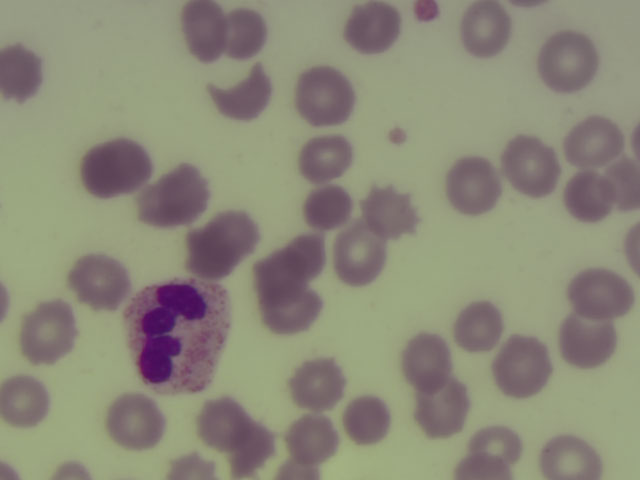Platelets: (382, 118, 412, 153), (411, 1, 443, 28)
RBC: (186, 214, 253, 269), (83, 137, 149, 192), (142, 170, 207, 224), (257, 275, 317, 332), (537, 433, 603, 480), (178, 1, 227, 64), (274, 229, 327, 283), (209, 74, 272, 118), (1, 372, 51, 427), (332, 232, 384, 282), (495, 342, 547, 392), (561, 316, 613, 366), (573, 266, 625, 316), (560, 171, 612, 221), (569, 118, 621, 168), (507, 142, 559, 192), (447, 160, 499, 210), (541, 37, 593, 87), (461, 5, 513, 55), (453, 301, 505, 351), (418, 384, 470, 434), (401, 336, 453, 386), (340, 394, 392, 444), (287, 412, 339, 462), (292, 359, 344, 409), (226, 426, 278, 476), (196, 398, 248, 448), (299, 134, 351, 184), (108, 396, 160, 446), (22, 306, 74, 356), (72, 255, 124, 305), (346, 2, 398, 52), (298, 71, 350, 121), (218, 8, 270, 58), (365, 187, 417, 237), (303, 179, 355, 229), (466, 420, 523, 465), (1, 41, 41, 102), (601, 158, 640, 216), (165, 448, 222, 480), (454, 453, 511, 480)
WBC: (122, 279, 231, 388)
